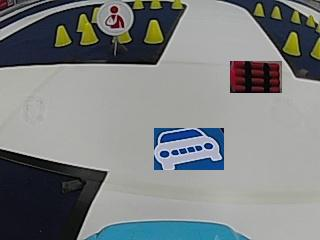cone: (143, 19, 163, 44), (79, 18, 98, 44), (283, 31, 301, 56), (54, 25, 71, 46), (310, 37, 320, 59), (253, 3, 265, 16), (271, 5, 282, 19), (305, 15, 316, 27), (170, 0, 183, 10), (149, 0, 162, 10), (132, 0, 144, 10), (291, 11, 300, 23)
patient: (100, 1, 132, 30)
